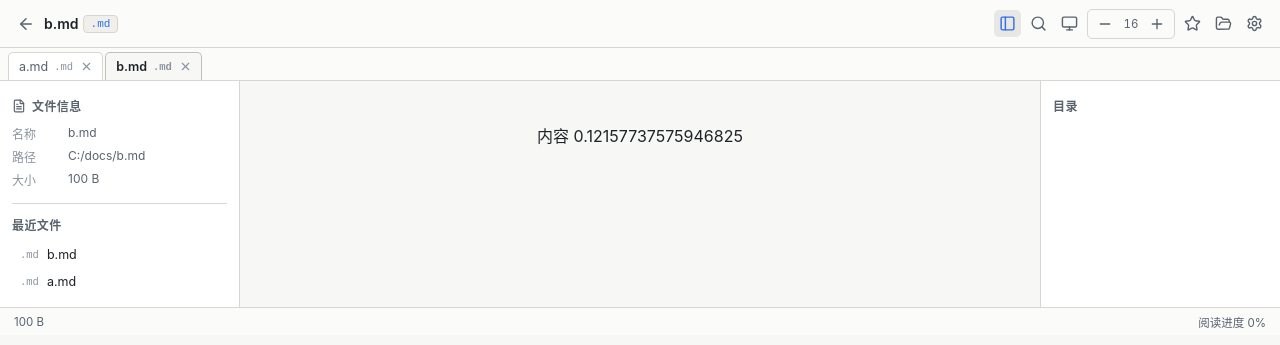
it: ReaderPage tabs › closes the active tab and activates the neighbor
Click the 2nd button with class "tab-close" at [185, 66], box [178,59,193,74]
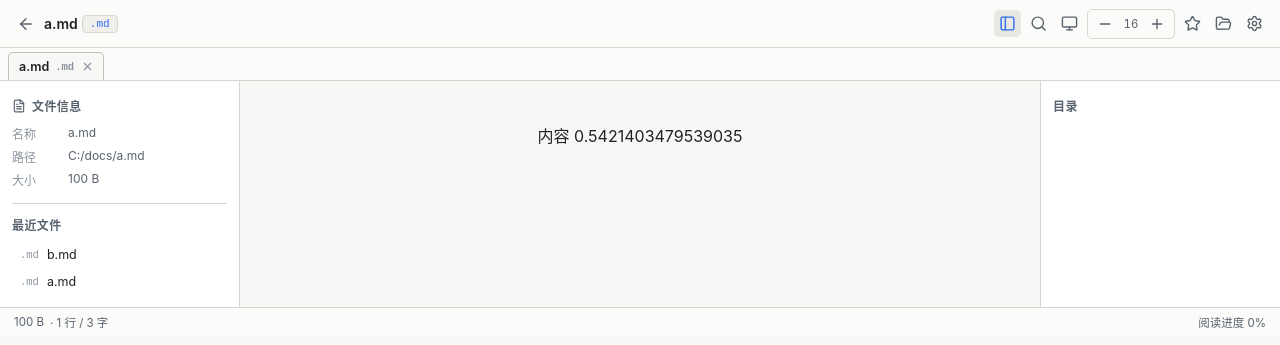
Now the text "a.md" in the row of "16" is shown, box [44,15,78,32]
